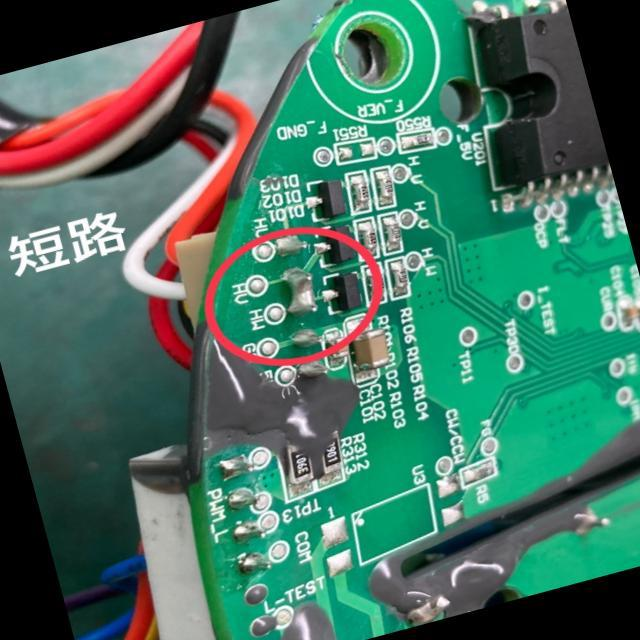Short_circuit: (282, 268, 318, 314)
